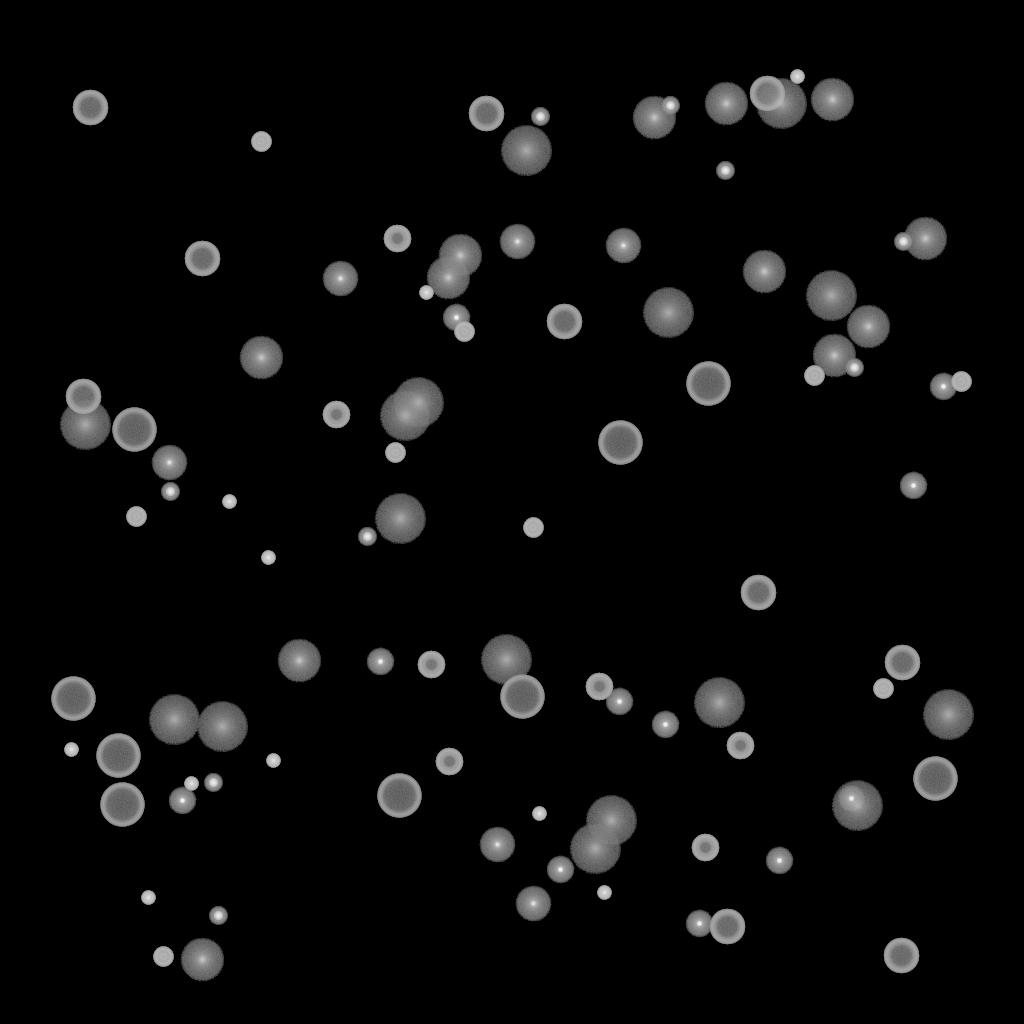depth:-10: (546, 856, 574, 884), (651, 711, 679, 739), (929, 373, 957, 401), (366, 648, 394, 676), (837, 785, 865, 813), (442, 304, 470, 332), (168, 787, 196, 815), (899, 472, 927, 500), (765, 847, 793, 875), (605, 688, 633, 716), (685, 910, 713, 938)
depth:-20: (358, 528, 376, 546), (845, 359, 863, 377), (531, 108, 549, 126), (894, 233, 912, 251), (716, 162, 734, 180), (204, 774, 222, 792), (661, 97, 679, 115), (209, 907, 227, 925), (161, 483, 179, 501)
depth:-30: (266, 754, 280, 768), (222, 495, 236, 509), (597, 886, 611, 900), (141, 891, 155, 905), (532, 807, 546, 821), (261, 551, 275, 565), (64, 743, 78, 757), (790, 70, 804, 84), (419, 286, 433, 300), (184, 777, 198, 791)
depth:-40: (804, 366, 824, 386), (523, 518, 543, 538), (873, 679, 893, 699), (454, 322, 474, 342), (251, 132, 271, 152), (385, 443, 405, 463), (126, 507, 146, 527), (153, 947, 173, 967), (951, 372, 971, 392)
depth:-50: (726, 732, 754, 760), (383, 225, 411, 253), (585, 673, 613, 701), (435, 748, 463, 776), (691, 834, 719, 862), (322, 401, 350, 429), (417, 651, 445, 679)
depth:-60: (65, 379, 101, 415), (884, 645, 920, 681), (546, 304, 582, 340), (883, 938, 919, 974), (184, 241, 220, 277), (709, 909, 745, 945), (468, 96, 504, 132), (740, 575, 776, 611), (749, 76, 785, 112), (72, 90, 108, 126)
depth:-70: (51, 677, 95, 721), (112, 408, 156, 452), (100, 783, 144, 827), (96, 734, 140, 778), (500, 675, 544, 719), (686, 362, 730, 406), (598, 421, 642, 465), (913, 757, 957, 801), (377, 774, 421, 818)
depth:0: (151, 445, 187, 481), (499, 224, 535, 260), (479, 827, 515, 863), (322, 261, 358, 297), (515, 886, 551, 922), (605, 228, 641, 264)
depth:10: (239, 336, 283, 380), (277, 639, 321, 683), (426, 256, 470, 300), (704, 82, 748, 126), (812, 334, 856, 378), (438, 234, 482, 278), (742, 250, 786, 294), (810, 78, 854, 122), (903, 217, 947, 261), (846, 305, 890, 349), (180, 938, 224, 982), (632, 96, 676, 140)
depth:20: (148, 695, 200, 745), (59, 400, 111, 450), (693, 678, 745, 728), (805, 271, 857, 321), (922, 690, 974, 740), (500, 126, 552, 176), (569, 824, 621, 874), (831, 781, 883, 831), (196, 702, 248, 752), (392, 378, 444, 428), (755, 79, 807, 129), (642, 288, 694, 338), (374, 494, 426, 544), (585, 796, 637, 846), (379, 391, 431, 441), (480, 635, 532, 685)
